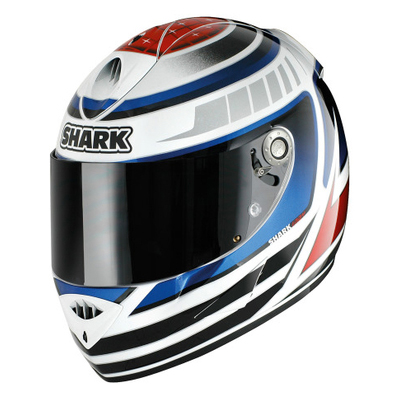helmet: (59, 31, 354, 347)
